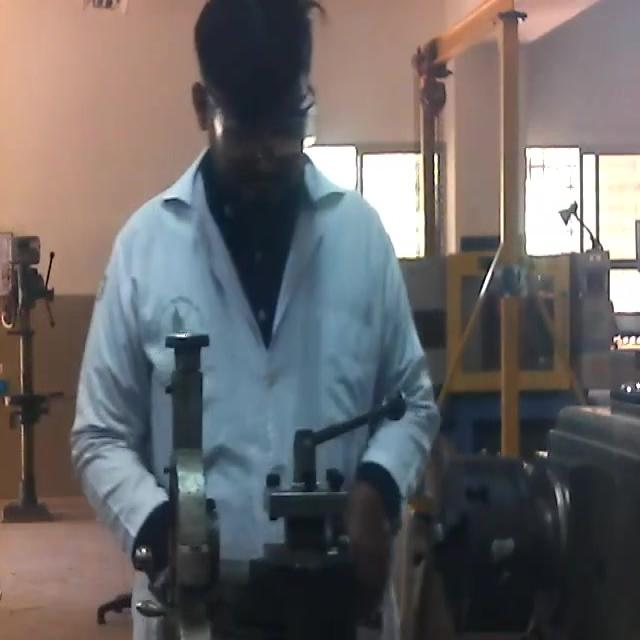googles: (212, 104, 320, 158)
labcoat: (71, 140, 440, 640)
